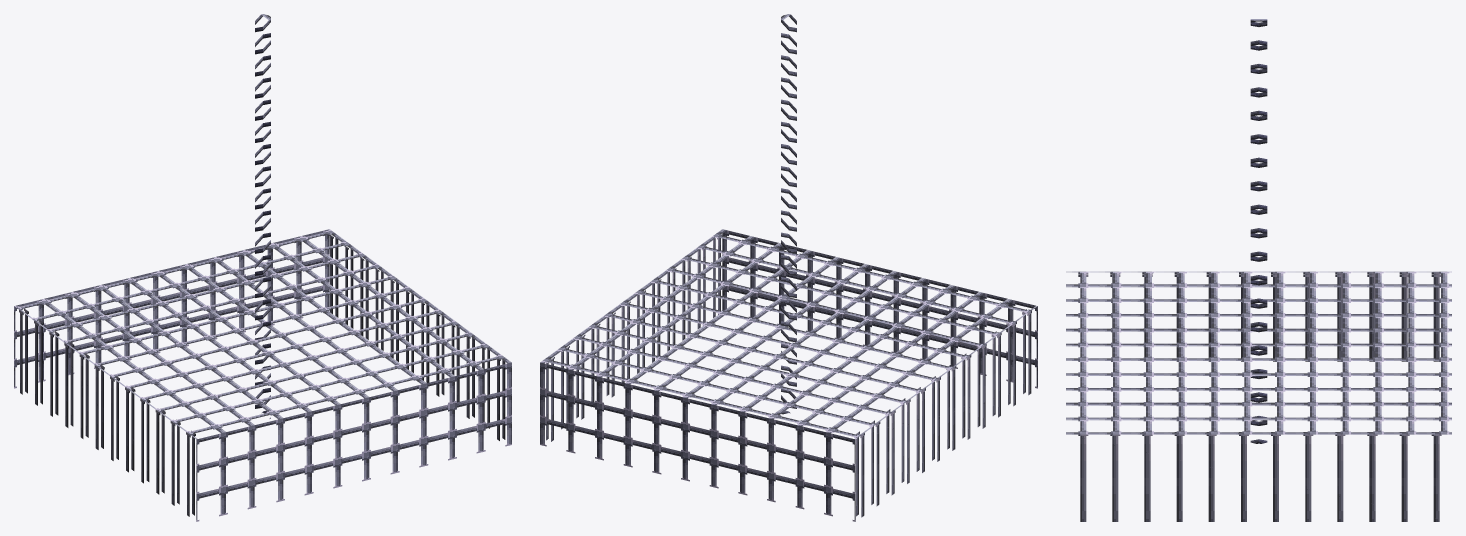
The model's file is km2_ami_bou.glb.
The picture shows the model from 3 angles, left to right: view 1: azimuth 30°, elevation 25°; view 2: azimuth 150°, elevation 25°; view 3: azimuth 270°, elevation 25°; orthographic projection. The views are drawn at different scales.
Parts seen in each view (by area): view 1: km2_ami_bou; view 2: km2_ami_bou; view 3: km2_ami_bou.
Part boxes in pixels (x1,y1,x2,y2): km2_ami_bou: [14, 14, 511, 521]; km2_ami_bou: [540, 14, 1037, 521]; km2_ami_bou: [1066, 19, 1451, 521].
Bounding box in the file's own units: 4.69 × 5.66 × 4.69.
Materials: 1 (1 with a texture image).
